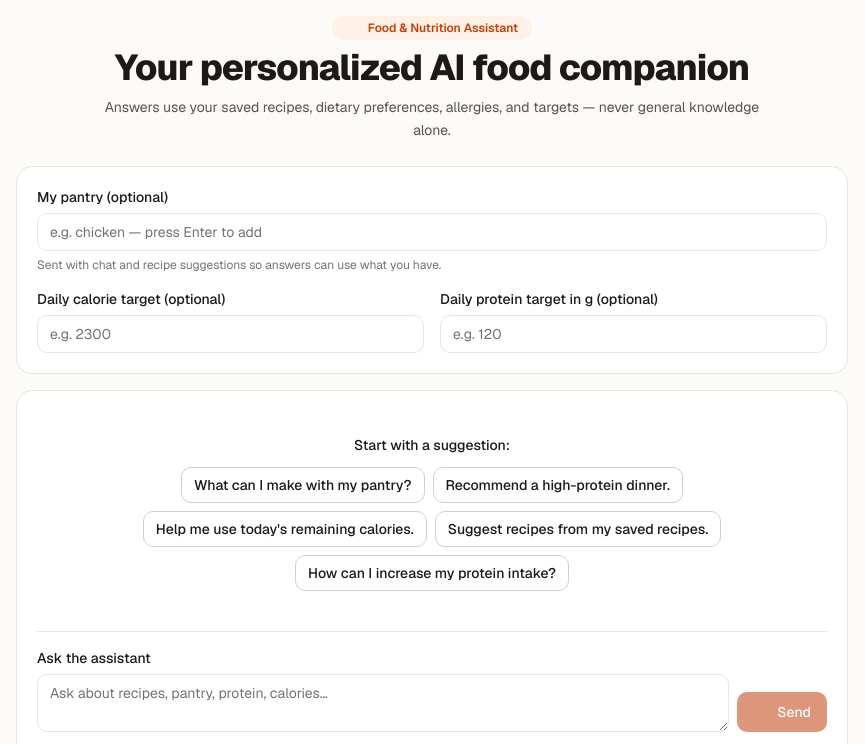
AssistantPage — Food & Nutrition AI Assistant › rejects out-of-range targets matching backend limits
The width and height of the screenshot is (865, 744).
Type "30000" into the number field labelled "Daily calorie target (optional)" at coordinates (230, 334), box [37,314,424,352]
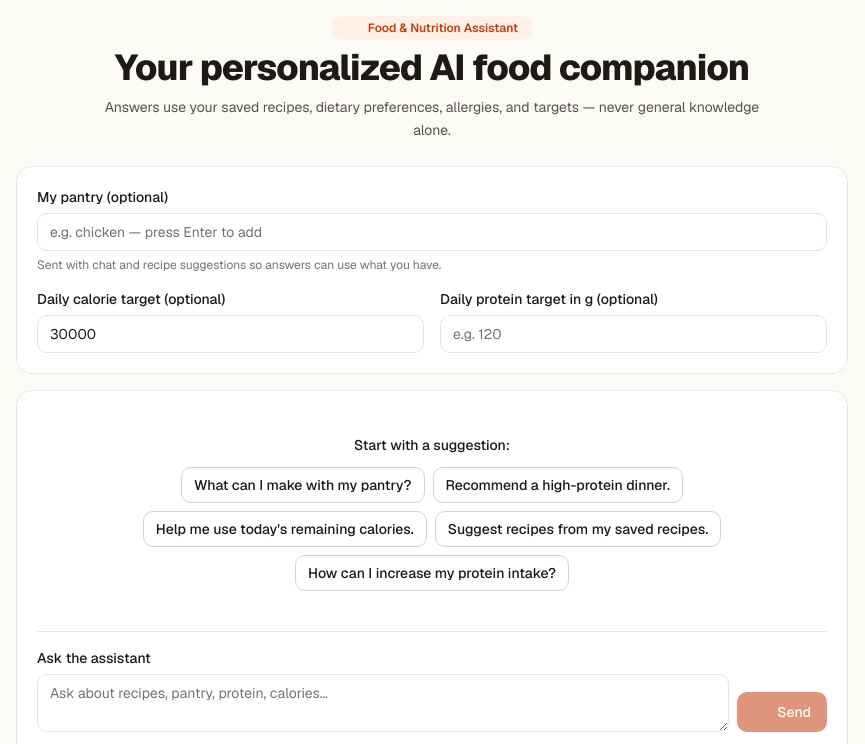
Type "Hi" into the text box labelled "Ask the assistant" at coordinates (383, 702), box [37,674,729,732]
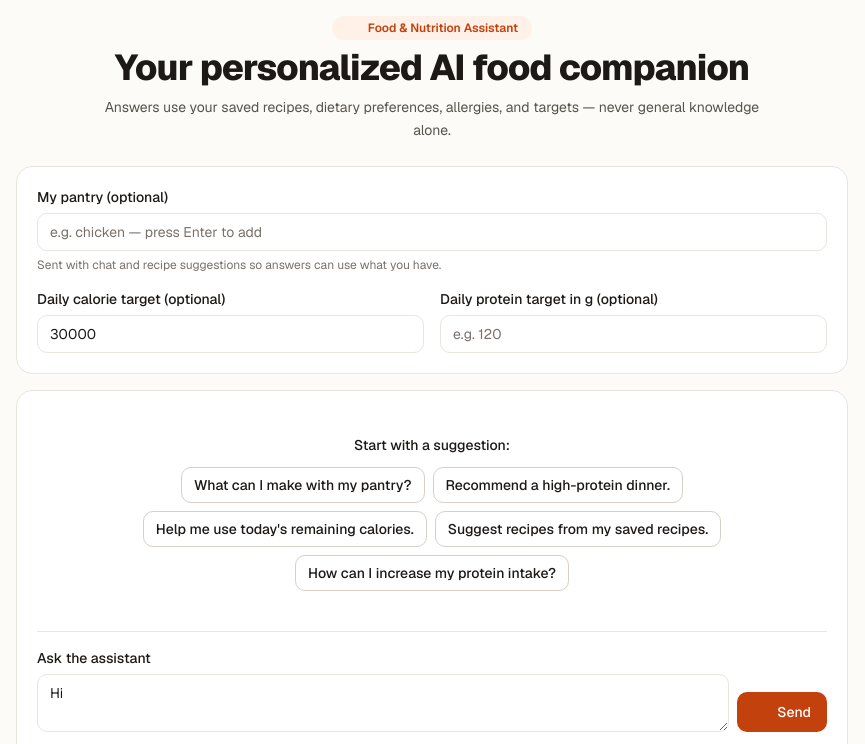
Click the button with aria-label "Send message" at coordinates (782, 712), box [737,692,827,732]
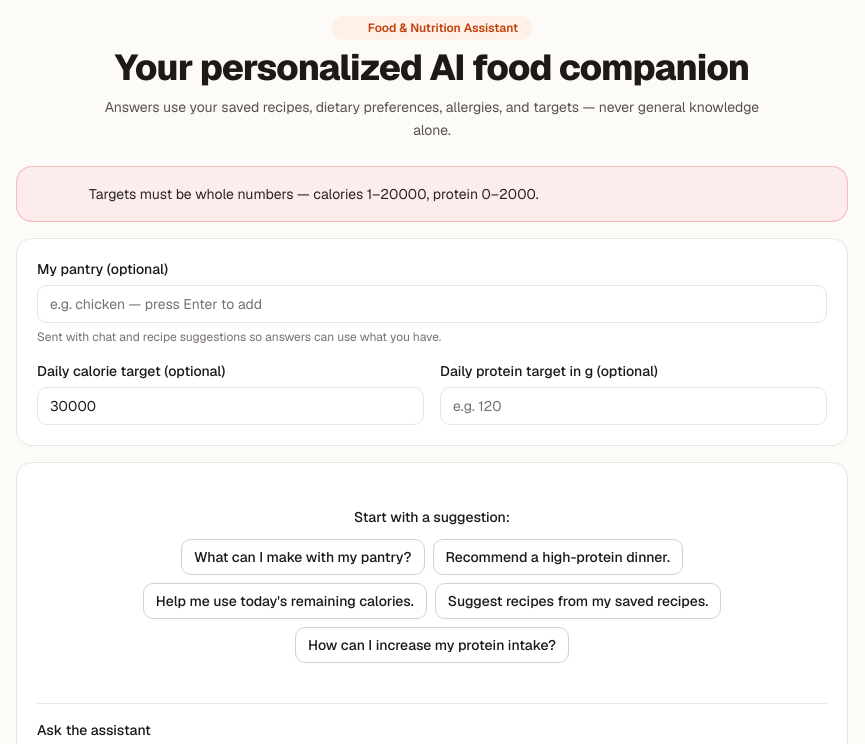
Now the text "1–20000" is shown, box [89,184,539,202]
